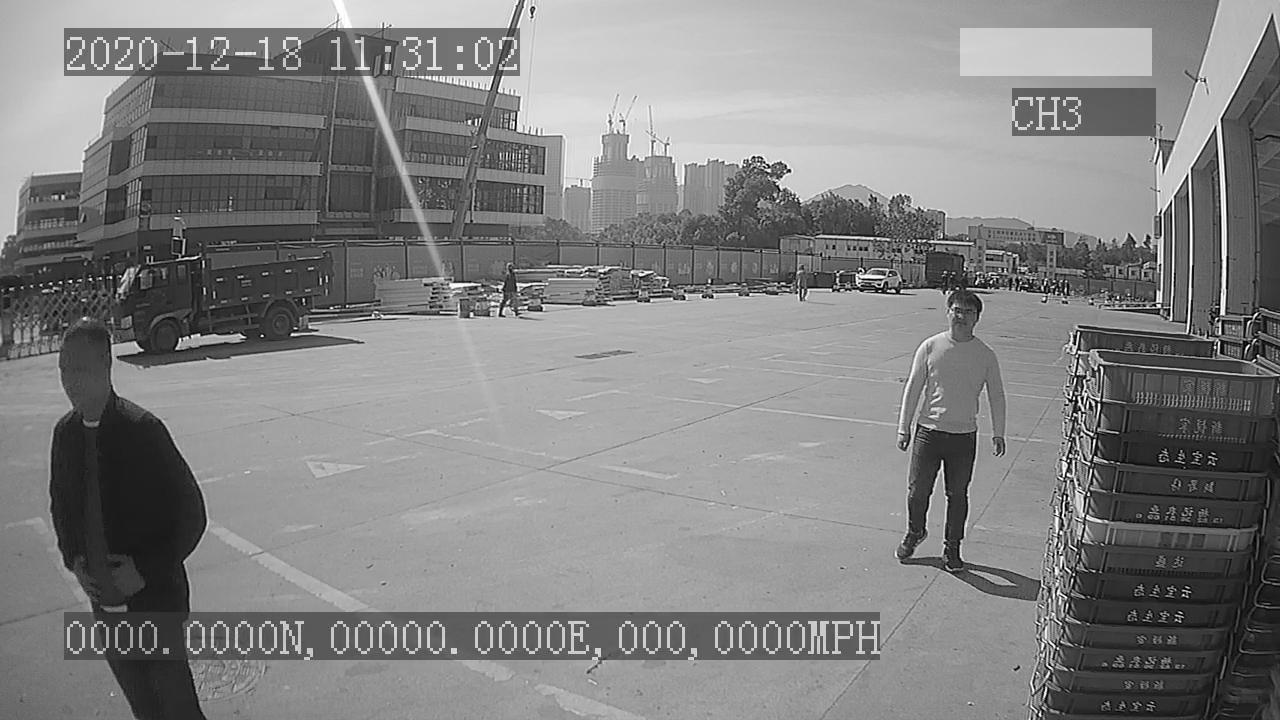person: (894, 283, 1007, 575)
